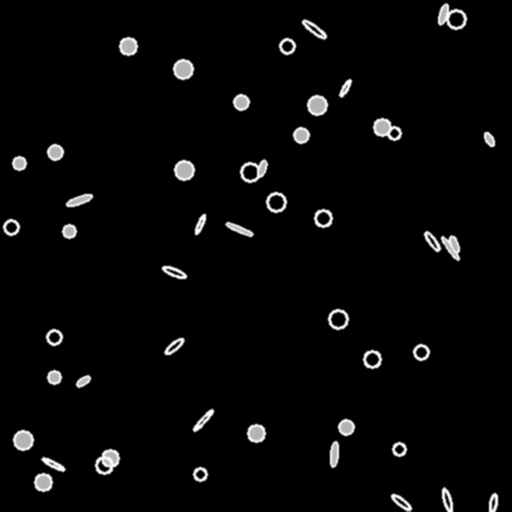pseudomonas: (300, 17, 328, 41), (192, 408, 214, 432), (440, 236, 460, 260), (225, 221, 253, 237), (163, 336, 185, 356), (390, 493, 412, 511), (423, 230, 441, 252), (41, 456, 65, 472), (161, 265, 187, 279), (66, 193, 92, 207), (440, 487, 454, 512), (193, 213, 207, 235), (437, 3, 449, 25), (338, 79, 352, 97), (75, 374, 91, 388), (482, 131, 496, 147), (448, 235, 460, 253), (330, 442, 338, 466), (257, 159, 267, 177), (488, 494, 498, 512)
synechocystis: (329, 310, 347, 328), (308, 96, 326, 114), (175, 161, 193, 179), (14, 431, 32, 449), (174, 60, 192, 78), (241, 163, 259, 181), (447, 10, 465, 28), (267, 193, 285, 211), (102, 450, 118, 466), (120, 38, 136, 54), (315, 210, 331, 226), (248, 425, 264, 441), (364, 351, 380, 367), (374, 119, 390, 135), (35, 474, 51, 490), (96, 457, 112, 473), (414, 345, 428, 359), (294, 128, 308, 142), (48, 145, 62, 159), (234, 95, 248, 109), (339, 420, 353, 434), (47, 330, 61, 344), (280, 39, 294, 53), (4, 220, 18, 234), (393, 443, 405, 455), (48, 371, 60, 383), (194, 468, 206, 480), (63, 225, 75, 237), (388, 127, 400, 139), (13, 157, 25, 169)
